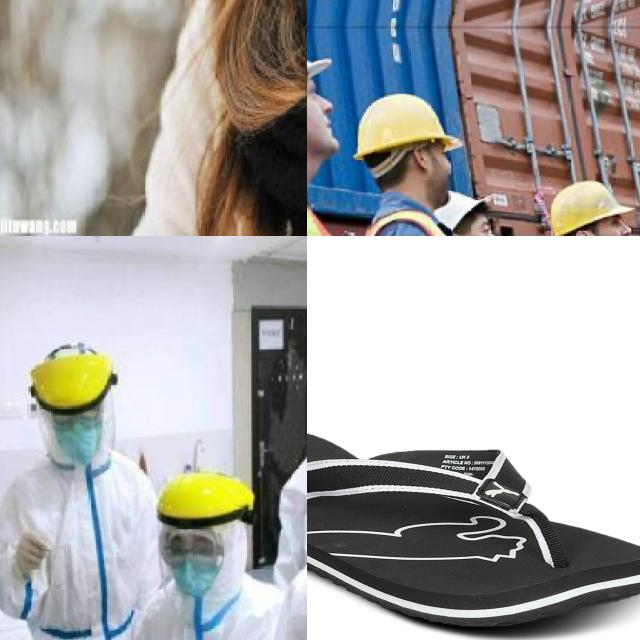No_Ear-Protection: (410, 143, 431, 174), (574, 228, 592, 236)
Sandals: (307, 428, 640, 629)
face_mask: (45, 401, 101, 466), (172, 530, 222, 596)
face_nomask: (307, 96, 340, 154), (604, 224, 633, 236)
glasses: (152, 520, 232, 571)
hand_glove: (14, 530, 52, 572)
head_helmet: (355, 94, 461, 160), (158, 452, 253, 524), (30, 345, 124, 414), (550, 182, 631, 236)
person: (0, 340, 174, 640), (126, 457, 291, 640), (190, 0, 307, 236)
